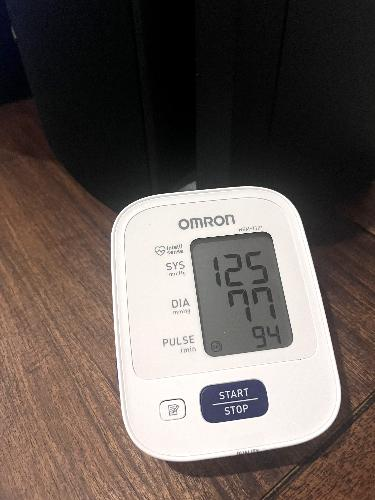bpm: (188, 225, 297, 359)
